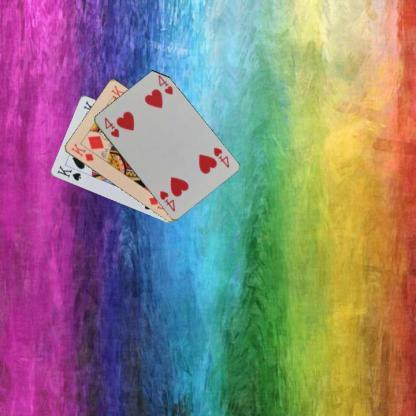4h: (210, 144, 230, 170), (101, 116, 120, 139)
Kd: (68, 140, 96, 162)
Ks: (54, 163, 82, 182)
